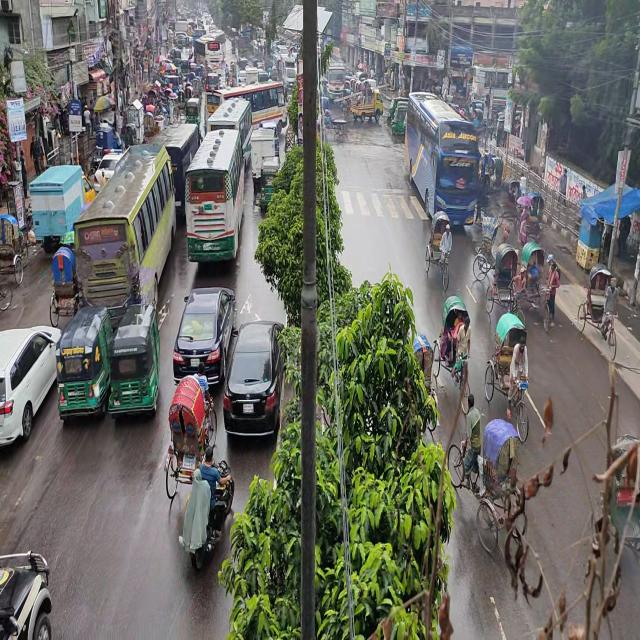black: (224, 322, 285, 438), (250, 443, 250, 448)
blue: (172, 283, 226, 384)
